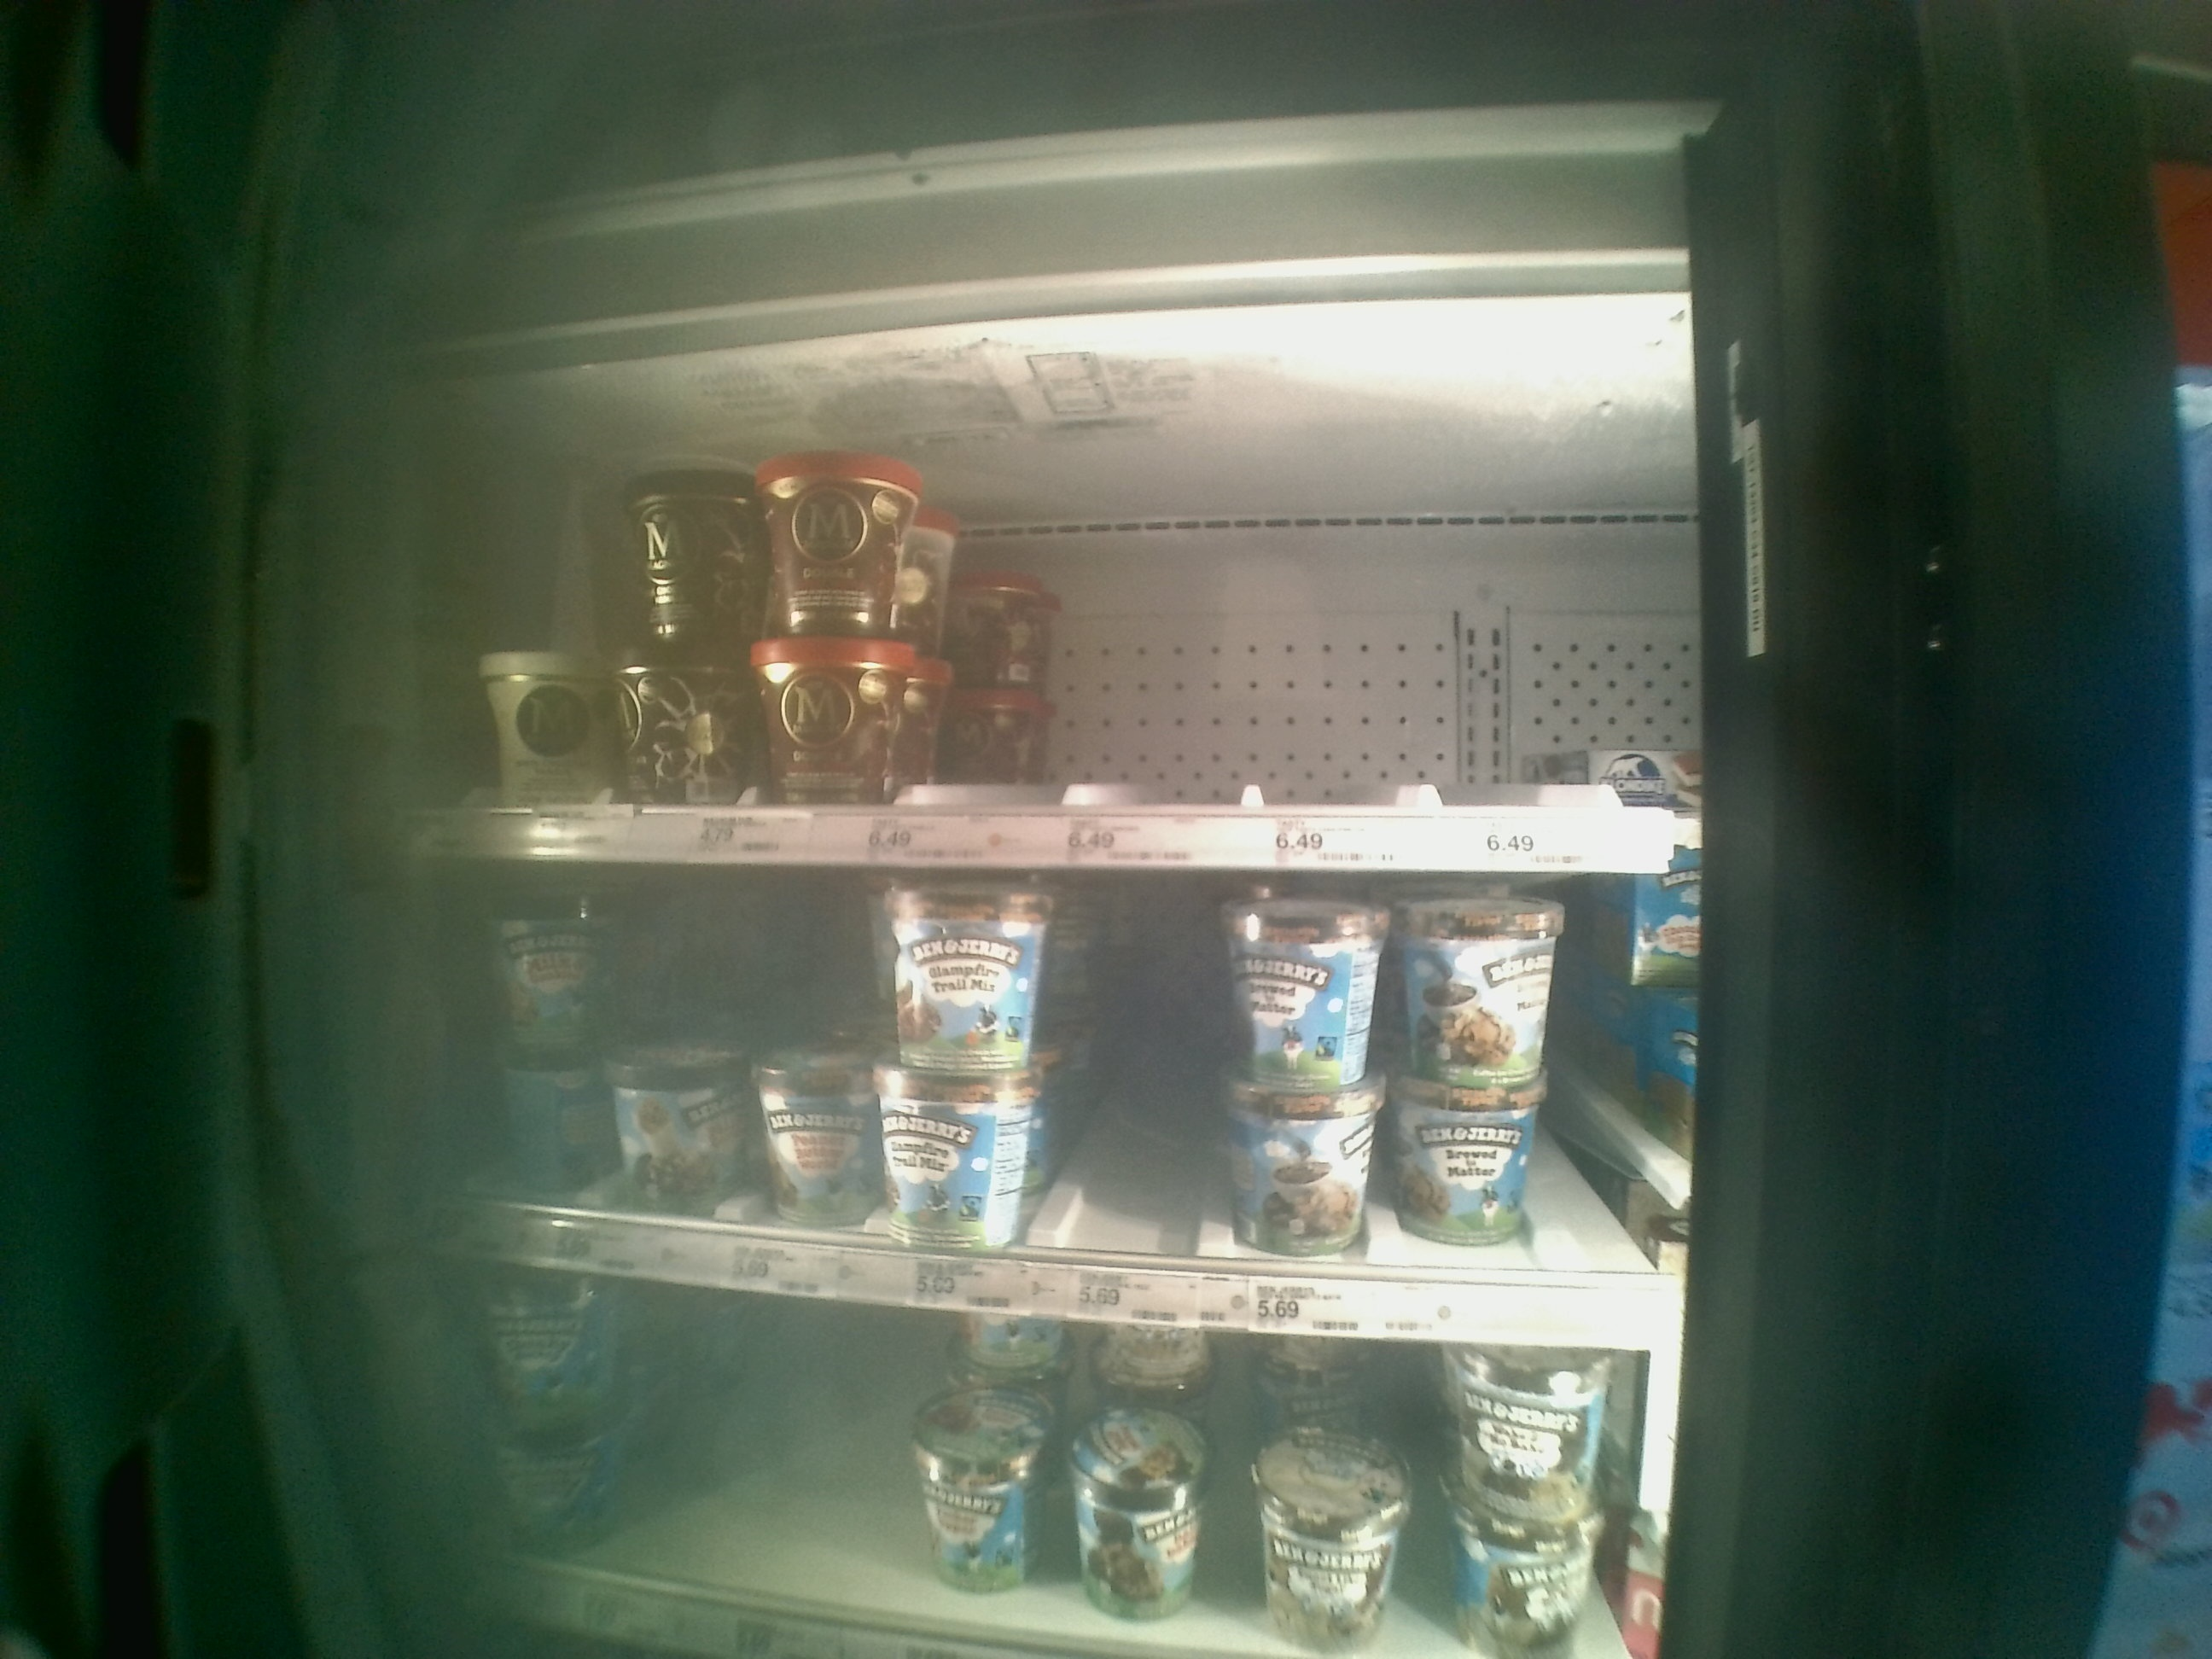shelf: (378, 382, 1676, 871), (408, 863, 1656, 1349)
